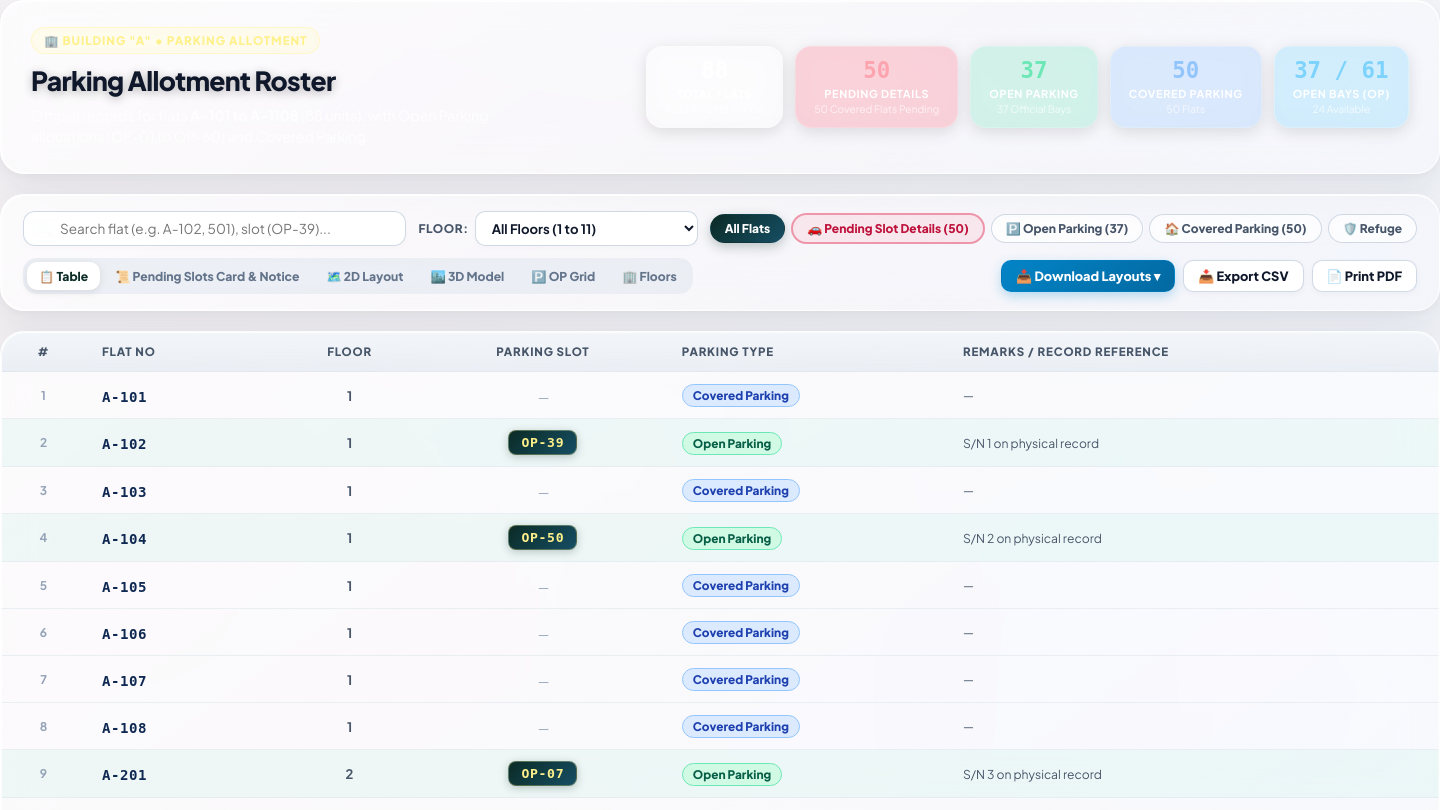
it: ParkingAllotmentTracker › filters roster by search query for flat number or slot
Type "OP-43" into the search field with placeholder "Search flat (e.g. A-102, 501), slot (OP-39)...".
click(215, 229); type("OP-43")  # box [23,211,406,246]
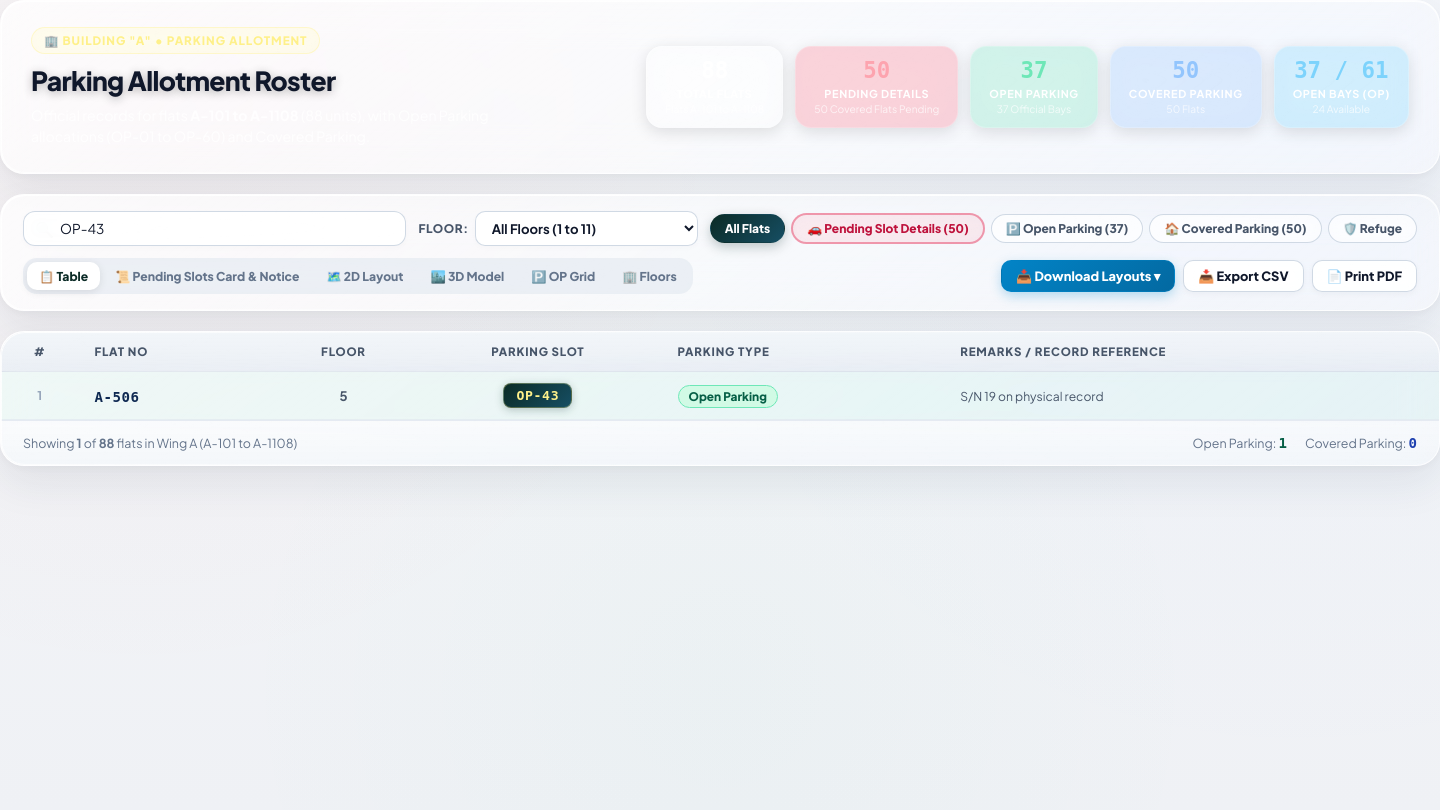
Expected: the text "A-506" is shown, [94,389,140,405]
Expected: the text "A-102" is gone
